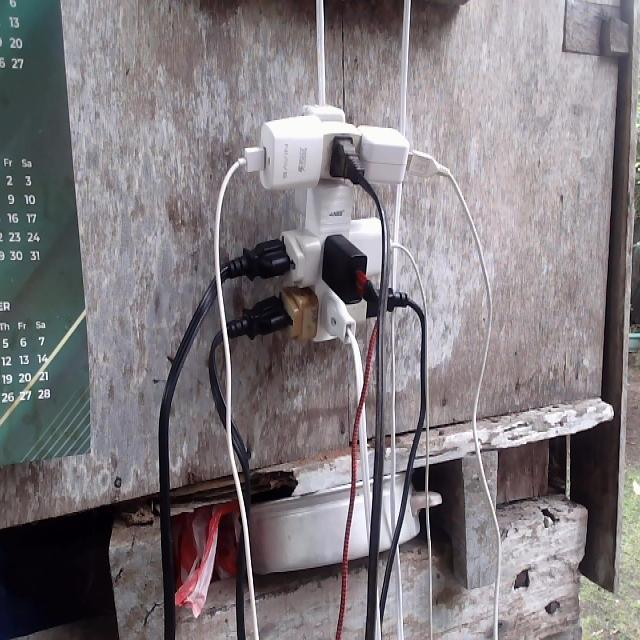-: (232, 99, 428, 348)
